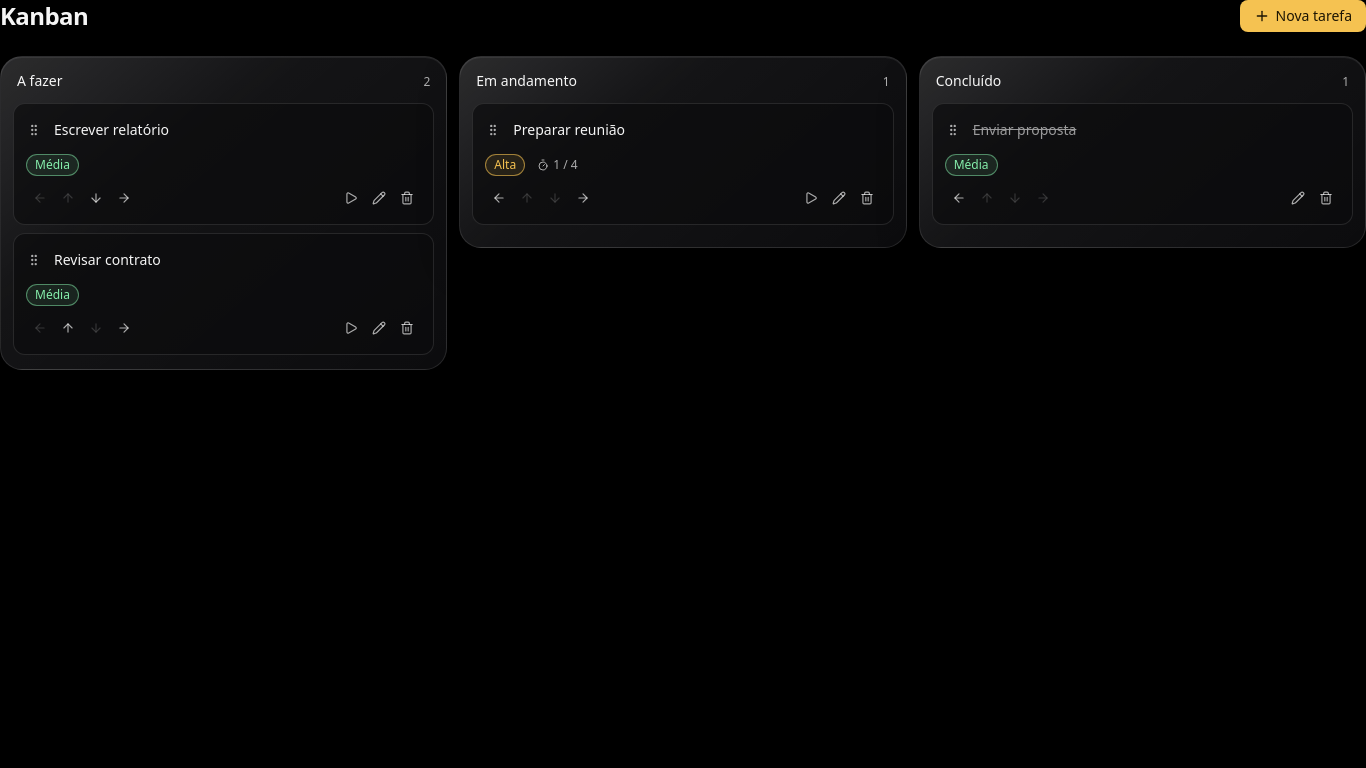
Test case: KanbanPage › só exclui depois da confirmação
Click the button named "Excluir" below "Revisar contrato".
click(407, 328)  # box x1=393 y1=314 x2=421 y2=342
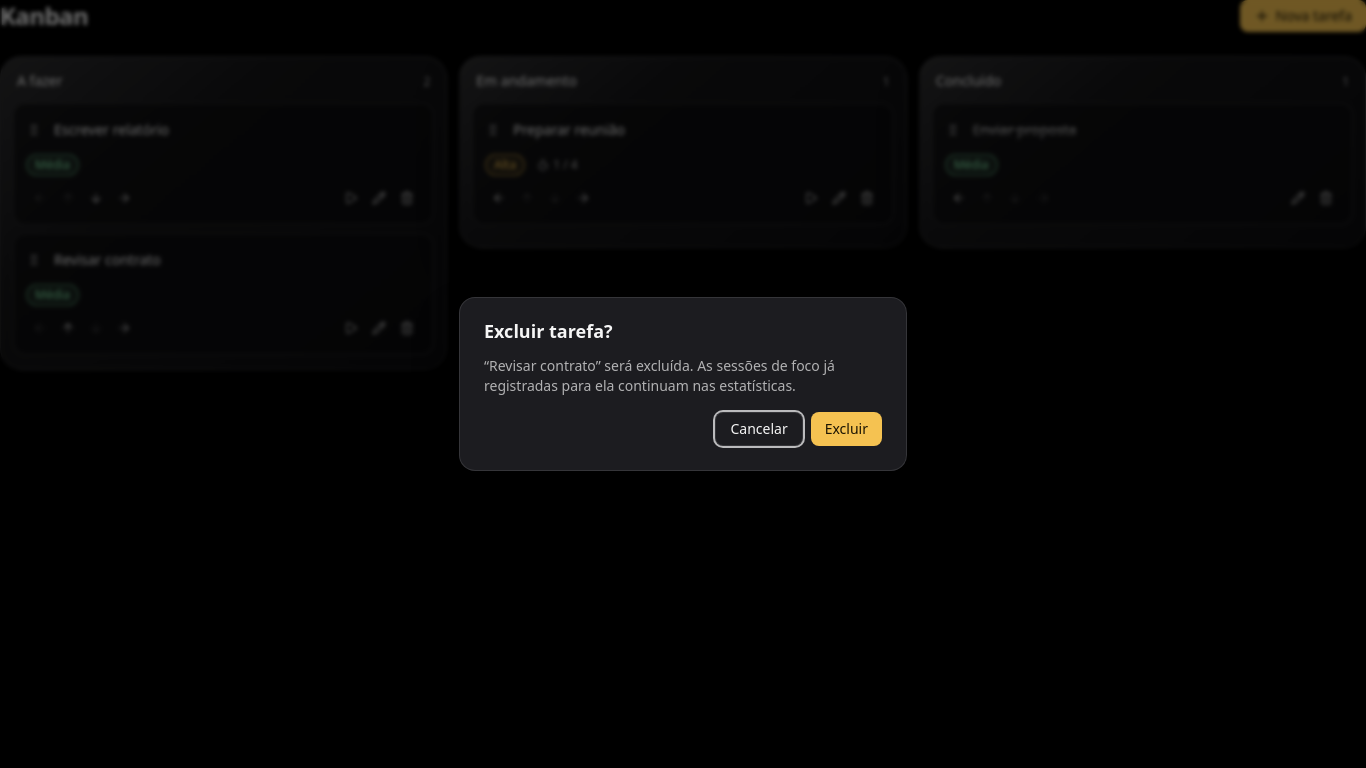
Result: the dialog "Excluir tarefa?" shows "Revisar contrato" at x1=489 y1=356 x2=596 y2=375
Click the button "Excluir".
click(846, 429)  # box x1=811 y1=412 x2=882 y2=446
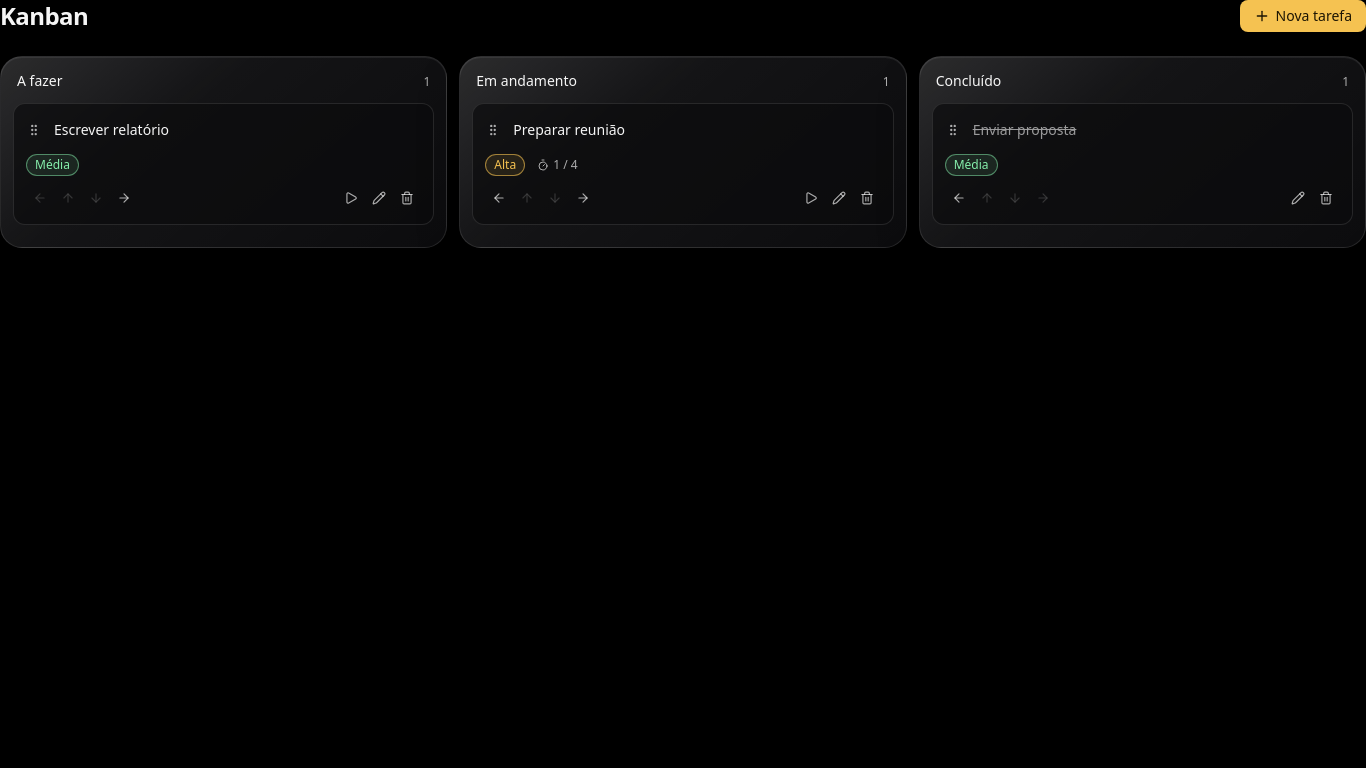
Result: the text "Revisar contrato" is gone
